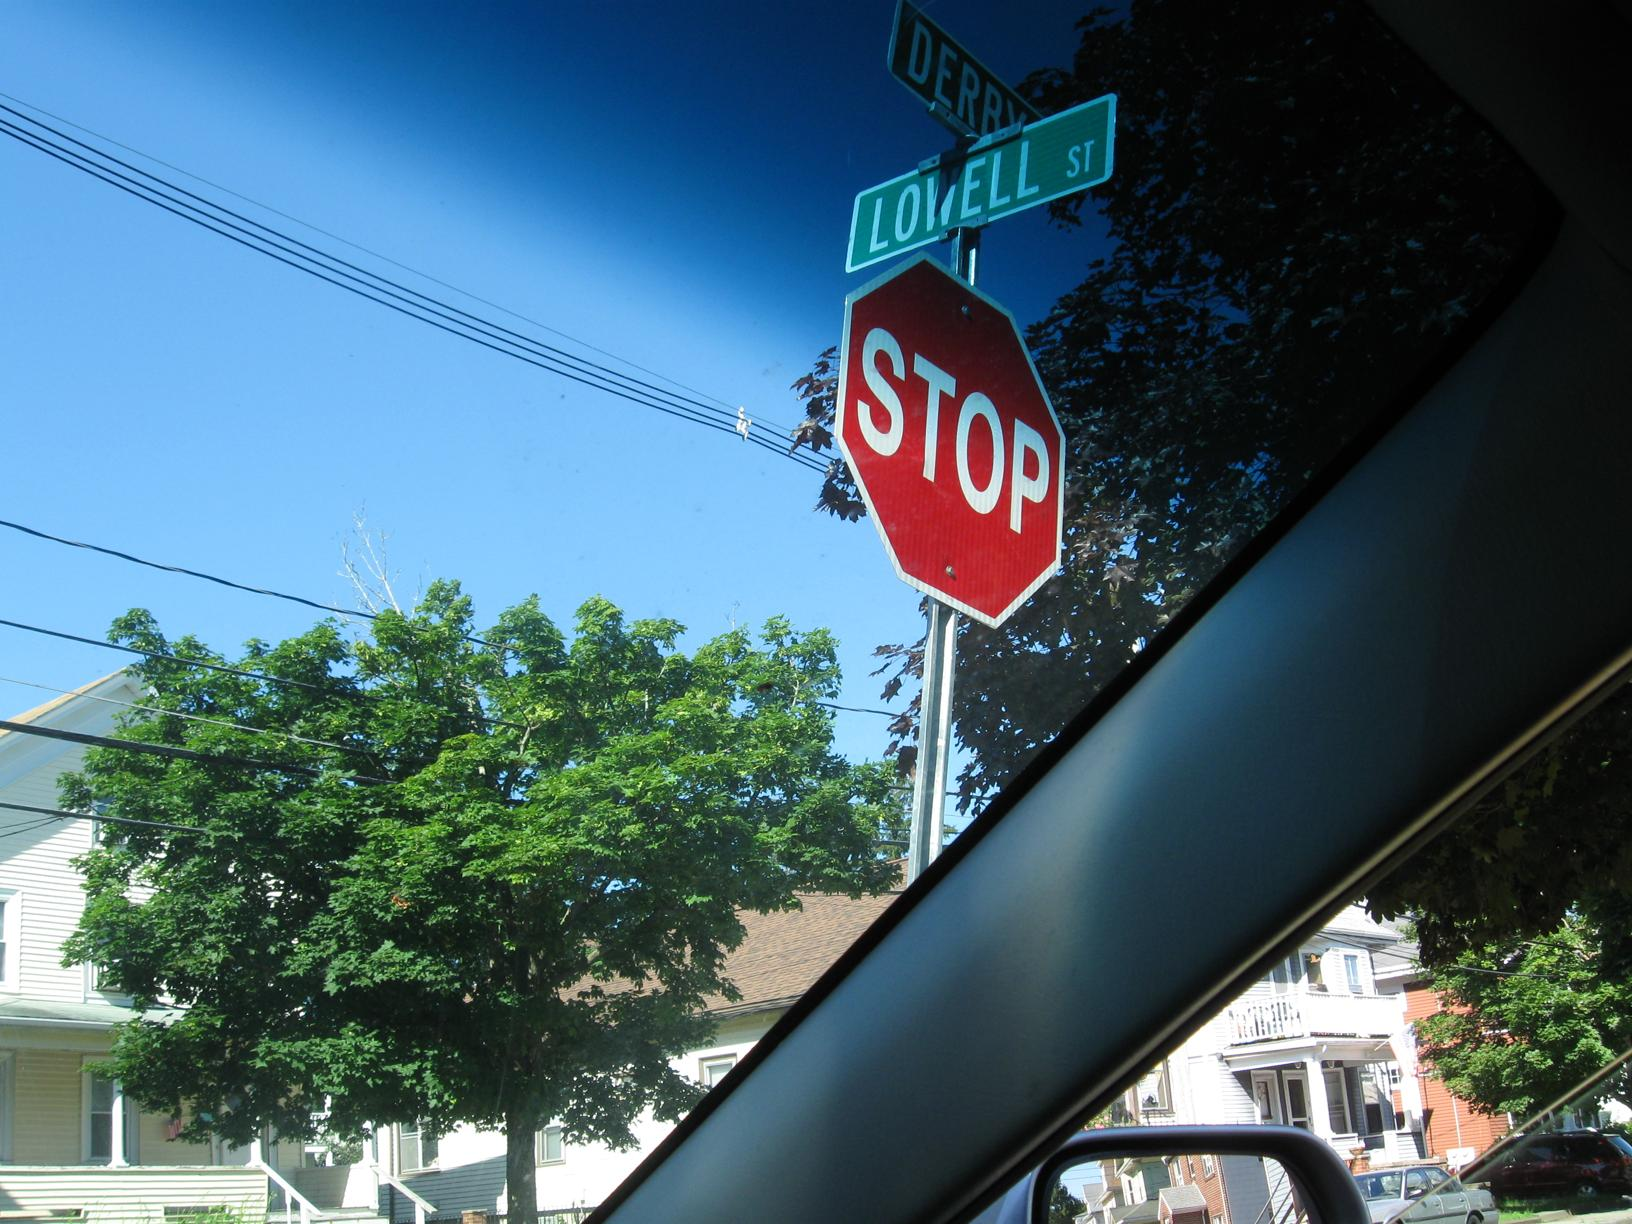stop: (828, 266, 1077, 624)
